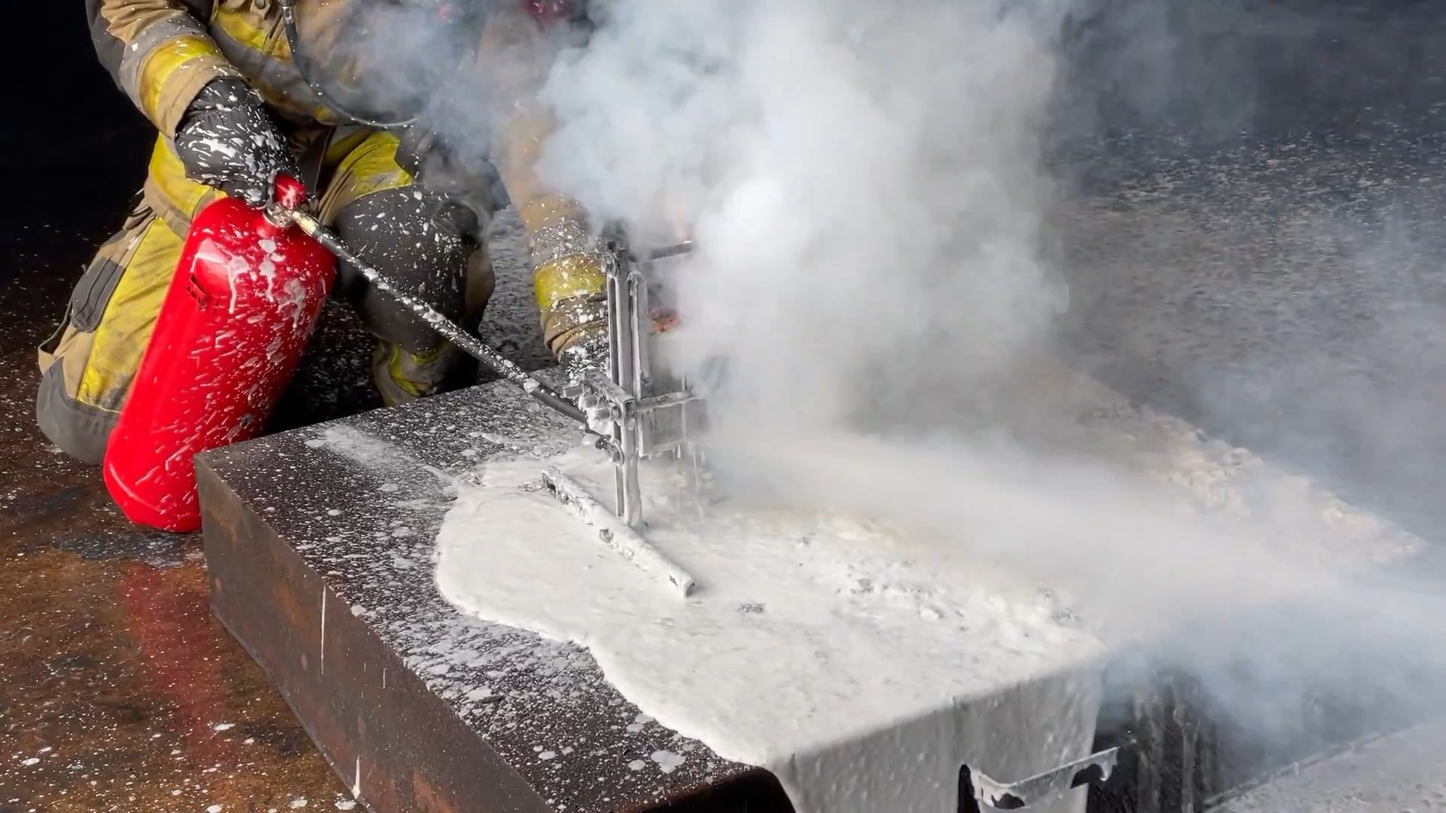smoke: (271, 22, 1446, 772)
